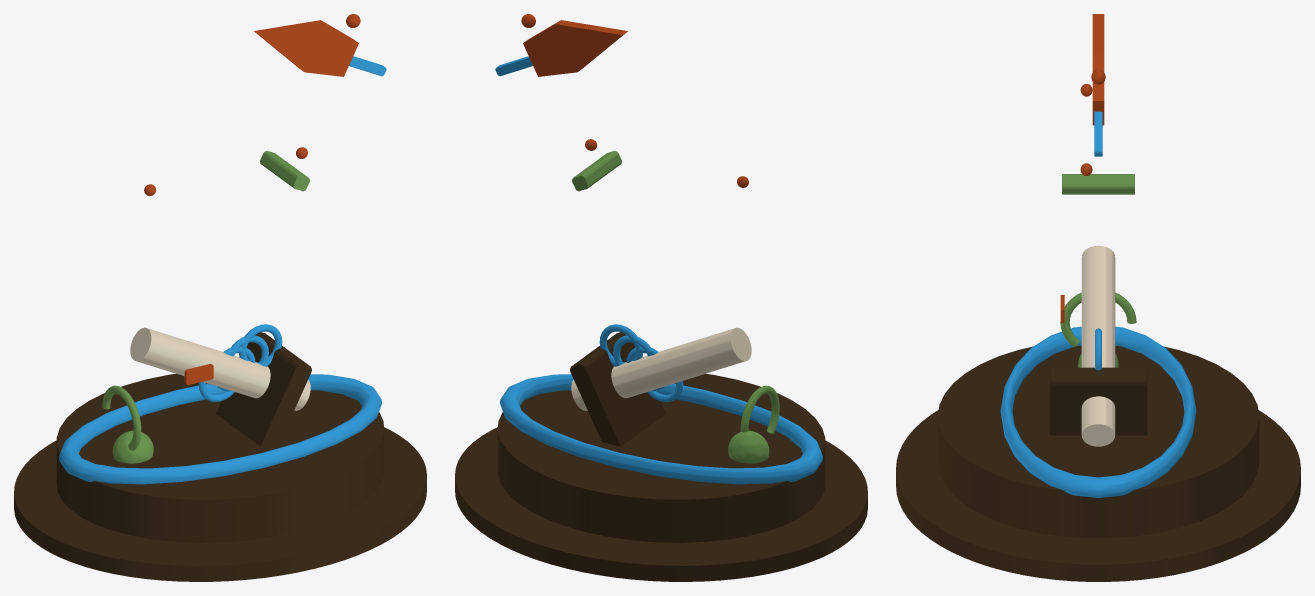
Rendered from 0216_生活中的物理图鉴_铜镜.glb.
3 views of the same model, side by side, from view 1: azimuth 30°, elevation 25°; view 2: azimuth 150°, elevation 25°; view 3: azimuth 270°, elevation 25° (orthographic). The views are drawn at different scales.
Parts seen in each view (by area): view 1: card_0216; view 2: card_0216; view 3: card_0216.
Boxes of the visible parts, box(x1,y1,x2,y2) form: card_0216: box(14, 14, 426, 581); card_0216: box(455, 14, 867, 581); card_0216: box(896, 14, 1300, 581).
Size of the model in its own units: 0.8252 by 1 by 0.7356.
